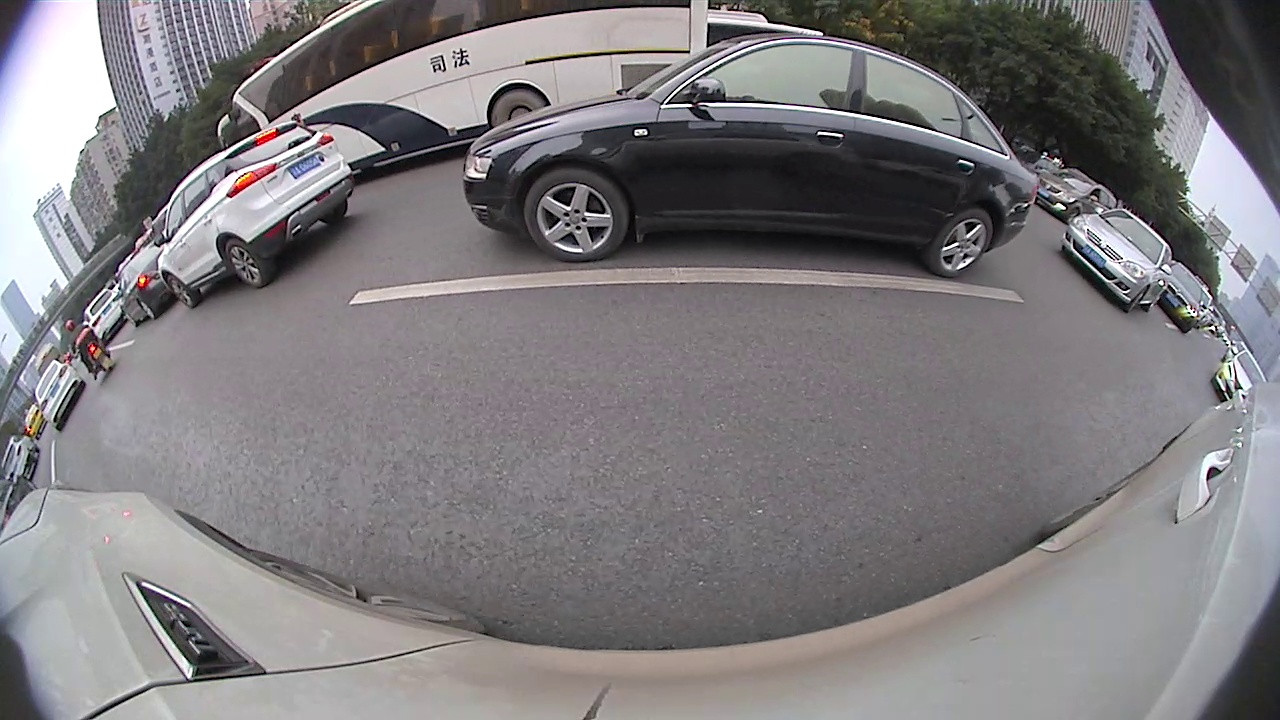bus: (214, 1, 710, 177)
car: (463, 32, 1040, 280), (154, 115, 356, 312), (1063, 205, 1175, 317), (117, 245, 190, 326), (1032, 163, 1117, 227), (29, 359, 85, 431), (1159, 257, 1209, 335), (1212, 343, 1268, 407), (75, 290, 134, 345), (0, 436, 39, 489)
front: (523, 171, 631, 262), (163, 274, 202, 306), (1124, 286, 1147, 311)
rear: (926, 212, 994, 276), (223, 240, 272, 286), (493, 90, 545, 129), (139, 301, 155, 317)
rider: (61, 317, 114, 378)
